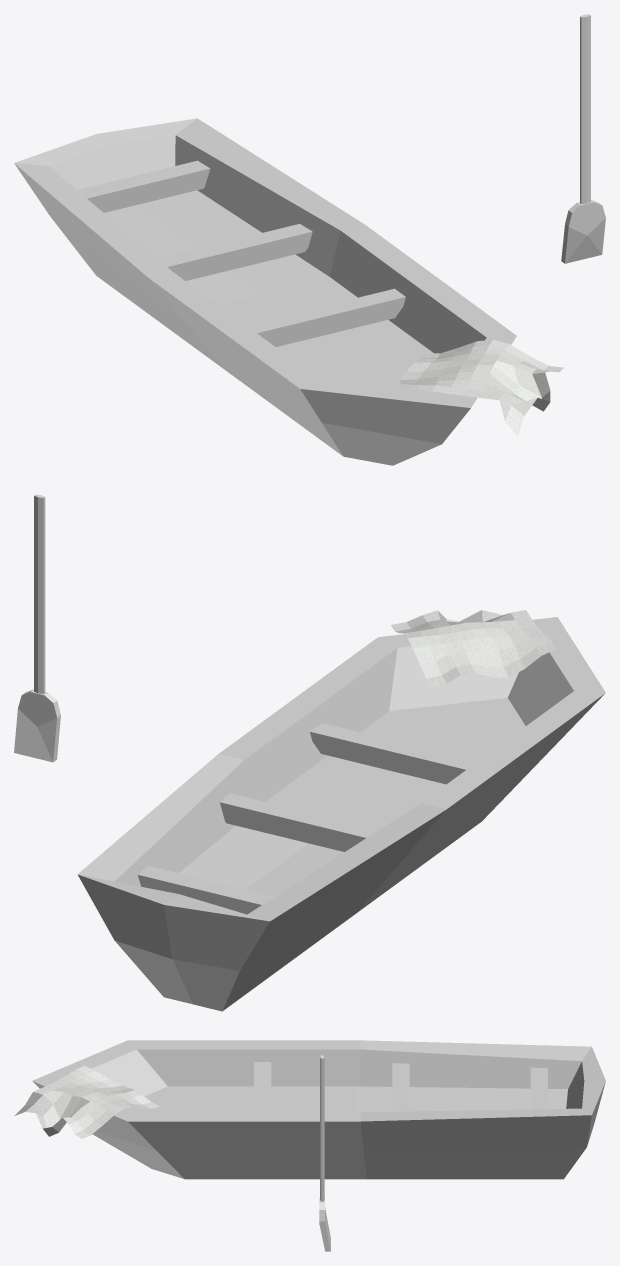
The model's file is fabric.fbx.
The picture shows the model from 3 angles, top to bottom: view 1: azimuth 30°, elevation 25°; view 2: azimuth 150°, elevation 25°; view 3: azimuth 270°, elevation 25°; orthographic projection. The views are drawn at different scales.
Parts seen in each view (by area): view 1: Cube.001, Plane, paddle; view 2: Cube.001, Plane, paddle; view 3: Cube.001, Plane, paddle.
Boxes of the visible parts, x1=… form: Cube.001: x1=14, y1=118, x2=516, y2=465; Plane: x1=400, y1=339, x2=563, y2=436; paddle: x1=561, y1=14, x2=605, y2=263; Cube.001: x1=77, y1=617, x2=605, y2=1011; Plane: x1=391, y1=610, x2=556, y2=687; paddle: x1=14, y1=494, x2=60, y2=762; Cube.001: x1=32, y1=1040, x2=605, y2=1179; Plane: x1=14, y1=1065, x2=159, y2=1138; paddle: x1=319, y1=1055, x2=330, y2=1251.
Bounding box in the file's own units: 785 × 513 × 1219.
